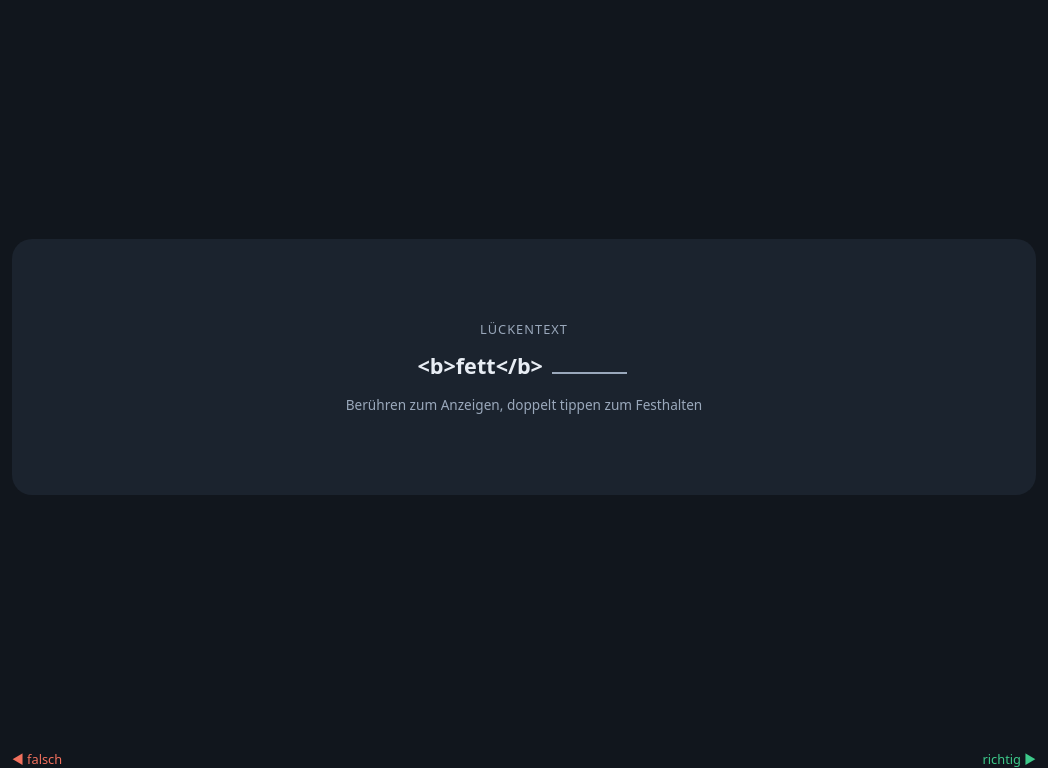
Test: Übungsinhalte als Text › interpretiert Markup in Satz, Frage, Optionen und Erklärung nicht
Later steps or results of the test are not shown.
Press the mouse on the element that starts with "Lückentext" at [524, 367], box [12,239,1036,495]
Press the mouse on the element that starts with "Lückentext" at [524, 367], box [12,239,1036,495]
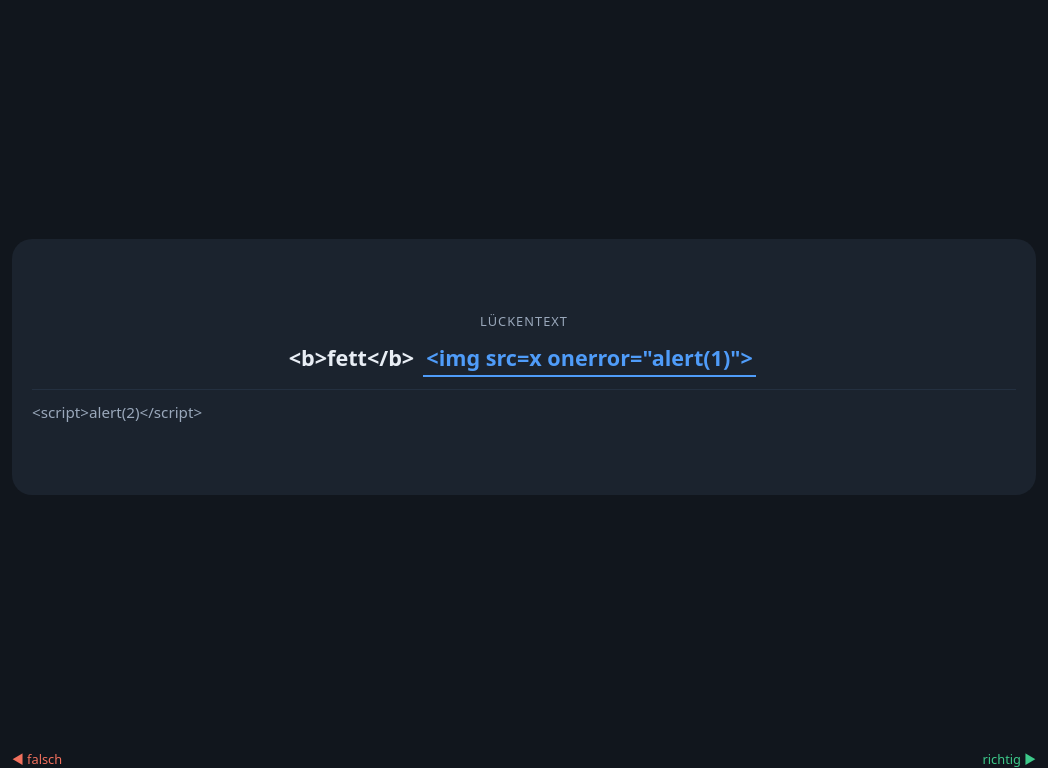
expect the text "<img src=x onerror=\"alert(1)\">" is shown: met, box [423,342,756,377]
expect the text "<script>alert(2)</script>" is shown: met, box [32,389,1016,422]
